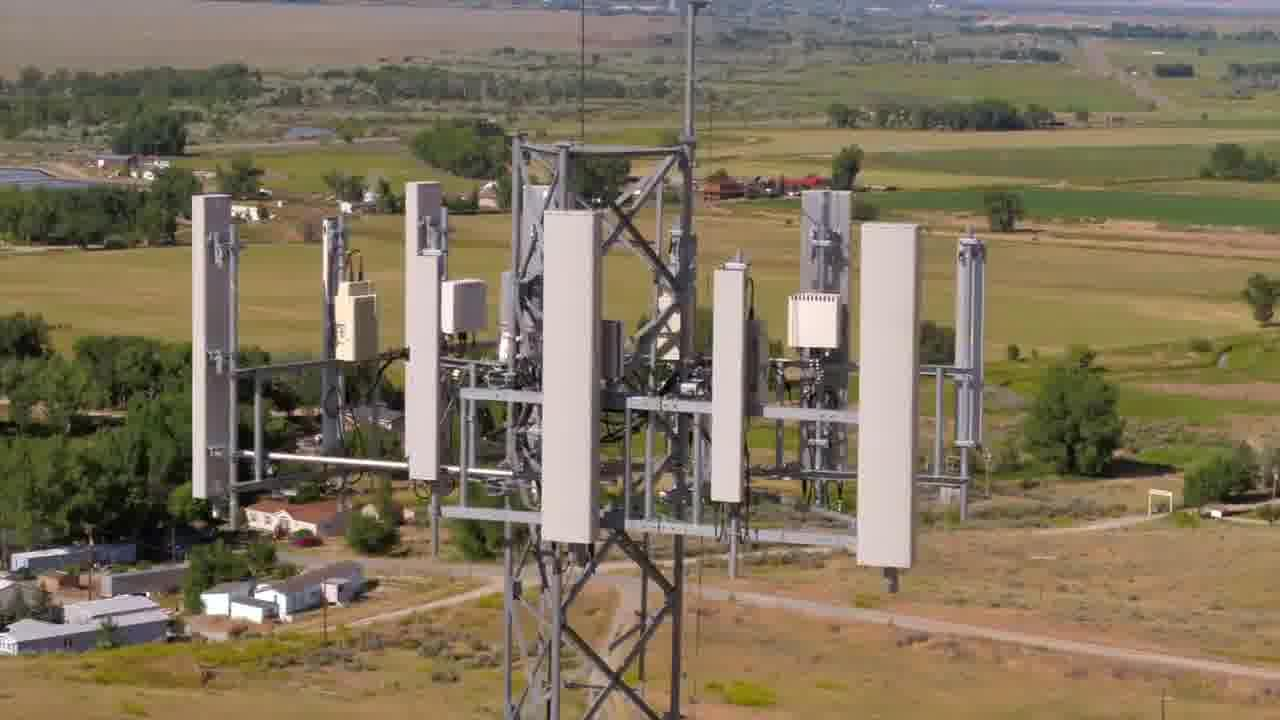antenna: (846, 219, 933, 577), (537, 193, 611, 566), (187, 180, 242, 502), (402, 171, 448, 494), (957, 199, 1009, 479), (702, 263, 757, 512), (801, 187, 862, 376)
